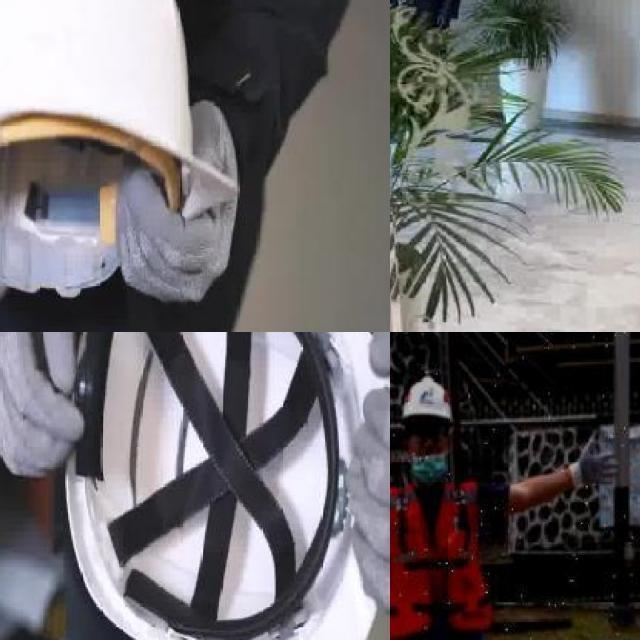apron: (113, 97, 240, 308), (0, 332, 85, 483), (347, 332, 390, 619), (568, 436, 622, 491)
